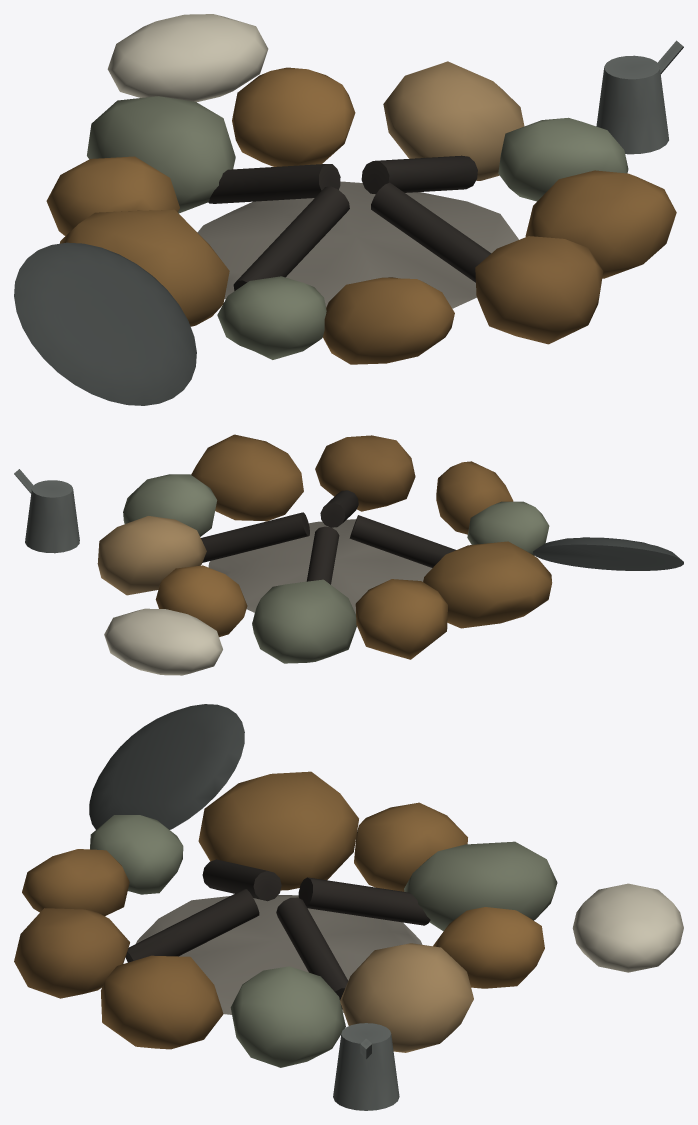
Rendered from fire_ring_a.glb.
3 renders of one model, top to bottom at view 1: azimuth 30°, elevation 25°; view 2: azimuth 150°, elevation 25°; view 3: azimuth 270°, elevation 25°, orthographic. The views are drawn at different scales.
Visible parts, largest first — view 1: Surface; view 2: Surface; view 3: Surface.
Boxes of the visible parts, <box> form: Surface: <box>14,14,683,405</box>; Surface: <box>14,434,683,675</box>; Surface: <box>14,704,683,1110</box>.
Size of the model in its own units: 2.75 by 0.4138 by 2.3.
